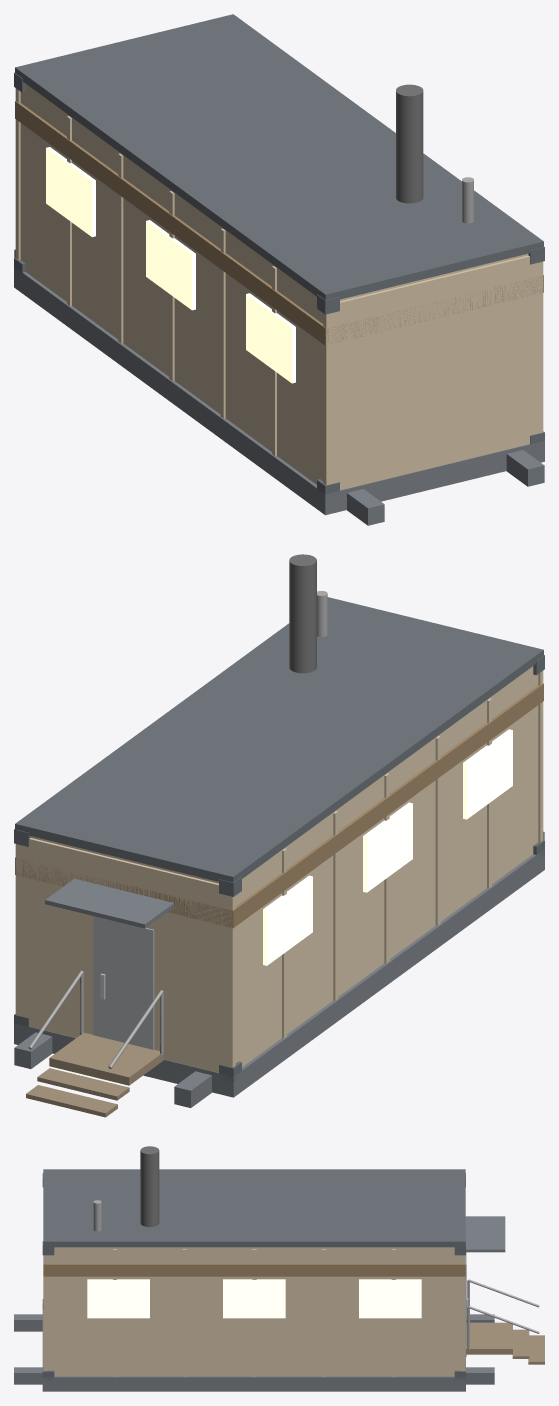
The model's file is banya.glb.
3 views of the same model, one above another, from view 1: azimuth 30°, elevation 25°; view 2: azimuth 150°, elevation 25°; view 3: azimuth 270°, elevation 25° (orthographic). The views are drawn at different scales.
Parts seen in each view (by area): view 1: object 10, object 9, object 1, object 2, object 11, object 29, object 14, object 13, object 12, inst, object 27, object 26 (+4 smaller); view 2: object 10, object 1, object 3, object 2, object 11, object 18, inst (×2), object 19, object 24, object 29, object 13, object 14 (+7 smaller); view 3: object 1, object 10, object 2, object 11, object 16, object 15, object 17, object 29, inst (×2), object 24, object 19, object 27 (+8 smaller).
Boxes of the visible parts, box(x1,y1,x2,y2) form: object 10: box(15, 14, 543, 300); object 9: box(323, 255, 543, 490); object 1: box(20, 84, 528, 484); object 2: box(14, 267, 544, 515); object 11: box(15, 101, 543, 345); object 29: box(396, 84, 423, 203); object 14: box(246, 293, 295, 383); object 13: box(146, 220, 195, 310); object 12: box(46, 147, 95, 237); inst: box(14, 72, 544, 496); object 27: box(506, 450, 544, 486); object 26: box(14, 249, 384, 525); object 10: box(15, 597, 543, 882); object 1: box(30, 666, 538, 1066); object 3: box(15, 838, 235, 1072); object 2: box(14, 849, 544, 1097); object 11: box(15, 683, 543, 928); object 18: box(93, 916, 154, 1049); inst (×2): box(14, 655, 544, 1117); object 19: box(49, 1032, 163, 1085); object 24: box(45, 878, 173, 928); object 29: box(289, 554, 316, 673); object 13: box(363, 802, 412, 892); object 14: box(463, 729, 512, 819); object 1: box(47, 1247, 461, 1376); object 10: box(43, 1169, 465, 1247); object 2: box(42, 1309, 465, 1391); object 11: box(43, 1264, 465, 1276); object 16: box(223, 1279, 285, 1318); object 15: box(359, 1279, 421, 1318); object 17: box(87, 1279, 149, 1318); object 29: box(140, 1146, 159, 1227); inst (×2): box(42, 1173, 544, 1381); object 24: box(465, 1216, 505, 1252); object 19: box(466, 1322, 512, 1354); object 27: box(14, 1367, 494, 1384).
Size of the model in its own units: 3.32 by 4.71 by 10.16.
